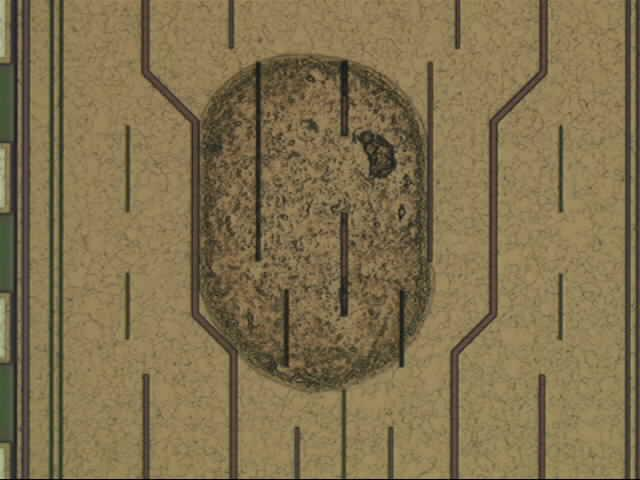PO CONTAMINATION: (192, 49, 444, 398)
